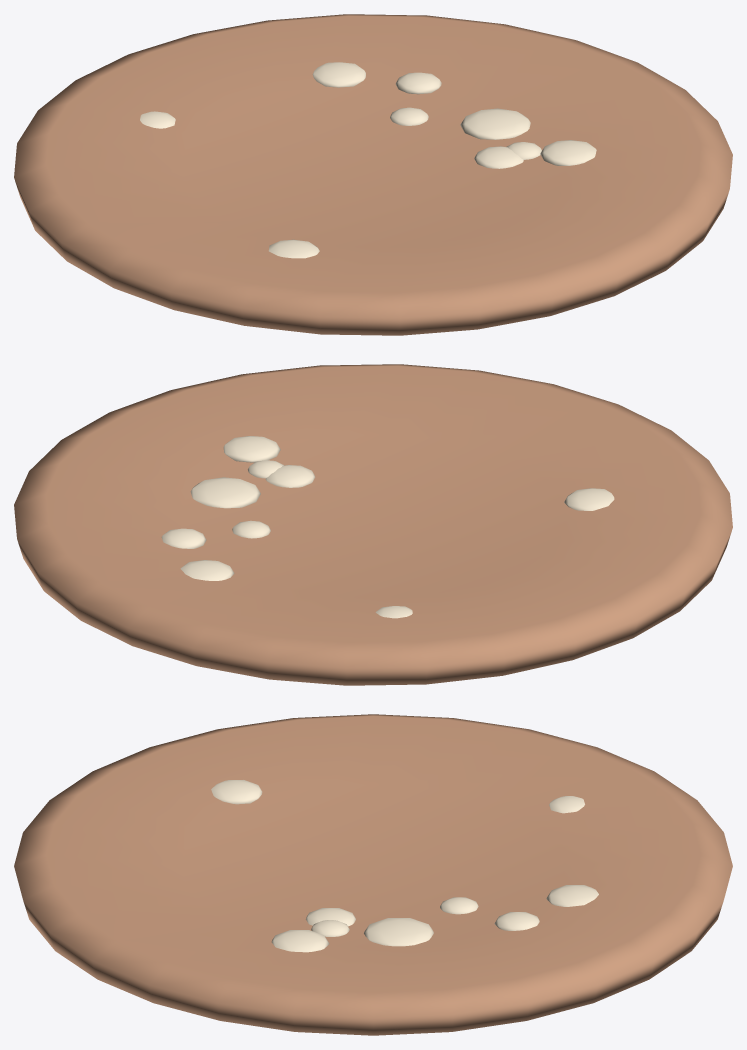
The model's file is EatsaPizzaPepperoni.glb.
The picture shows the model from 3 angles, top to bottom: view 1: azimuth 30°, elevation 25°; view 2: azimuth 150°, elevation 25°; view 3: azimuth 270°, elevation 25°; orthographic projection.
Visible parts, largest first — view 1: Meat, Fat; view 2: Meat, Fat; view 3: Meat, Fat.
Boxes of the visible parts, bbox=[...] form: Meat: bbox=[14, 14, 732, 335]; Fat: bbox=[140, 62, 596, 258]; Meat: bbox=[14, 364, 732, 685]; Fat: bbox=[161, 436, 614, 618]; Meat: bbox=[14, 714, 732, 1035]; Fat: bbox=[211, 780, 598, 952].
Size of the model in its own units: 2.24 by 0.17 by 2.24.
